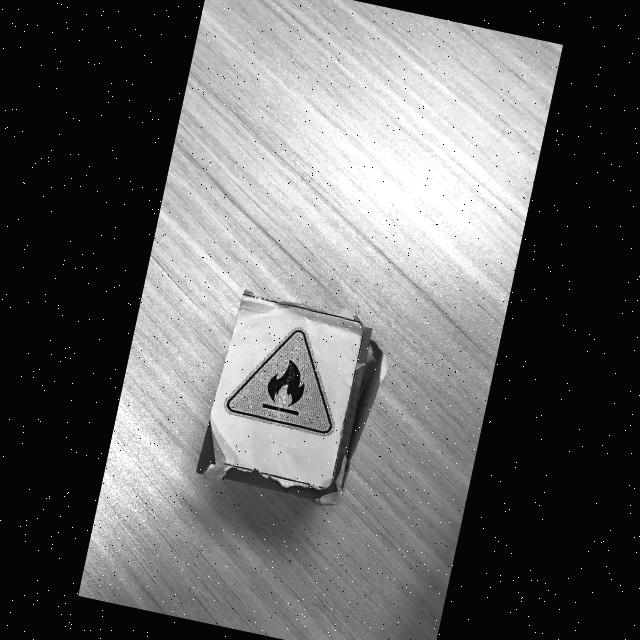Fire: (224, 329, 333, 436)
